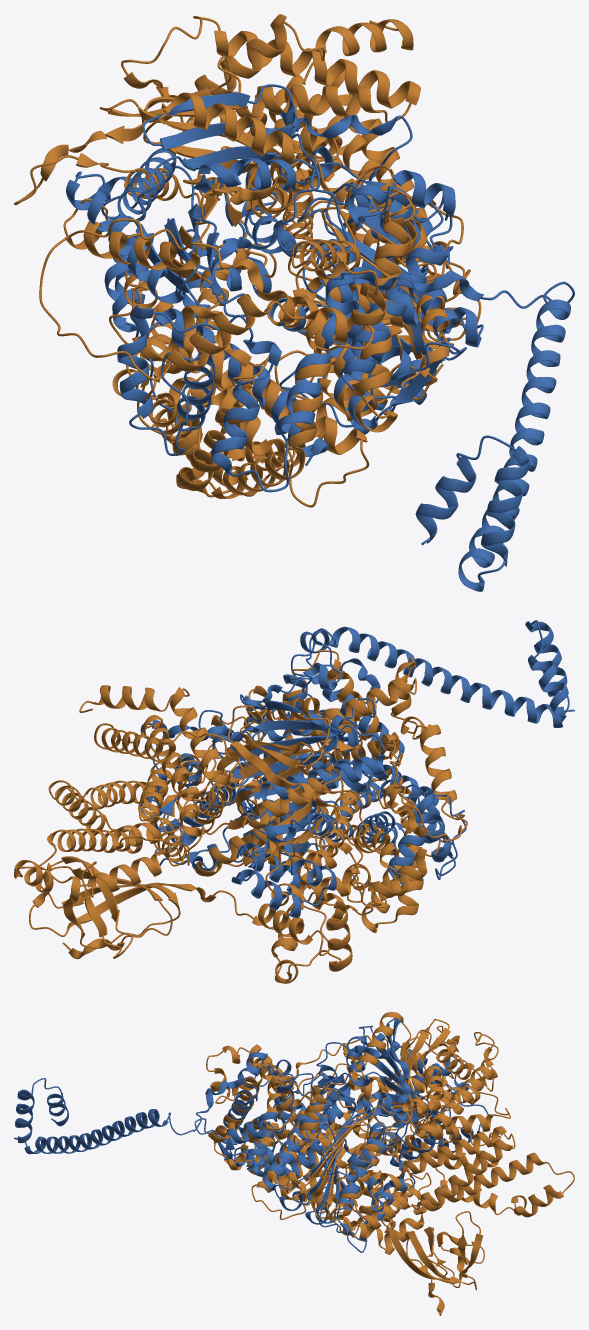
The picture shows the model from 3 angles, top to bottom: view 1: azimuth 30°, elevation 25°; view 2: azimuth 150°, elevation 25°; view 3: azimuth 270°, elevation 25°; orthographic projection. The views are drawn at different scales.
Size of the model in its own units: 92.62 by 74.08 by 159.
